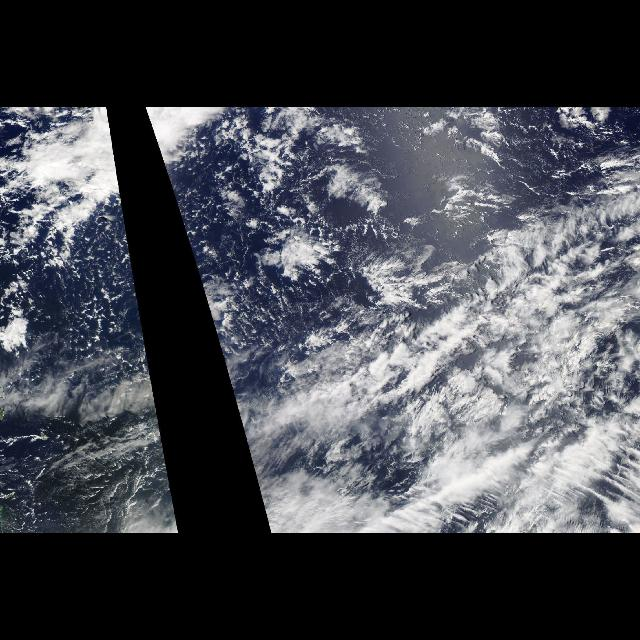Gravel: (166, 174, 244, 342), (72, 174, 146, 342)
